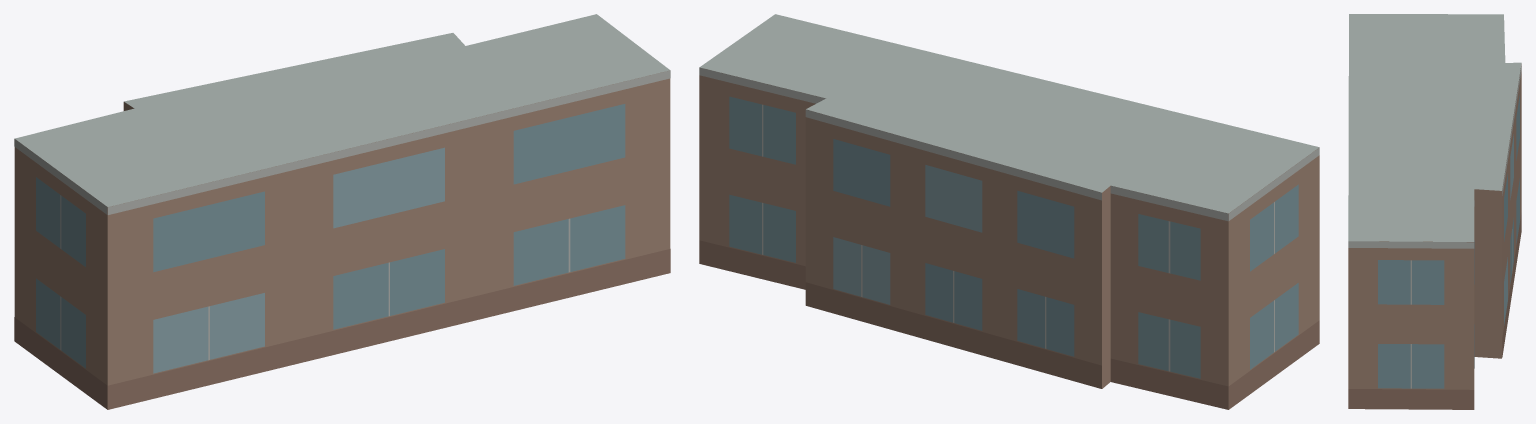
File: survey-upis-32892818.glb
3 views of the same model, side by side, from view 1: azimuth 30°, elevation 25°; view 2: azimuth 150°, elevation 25°; view 3: azimuth 270°, elevation 25° (orthographic). The views are drawn at different scales.
Visible parts, largest first — view 1: survey-upis-32892818.tmp; view 2: survey-upis-32892818.tmp; view 3: survey-upis-32892818.tmp.
Boxes of the visible parts, x1,y1,x2,y2 form: survey-upis-32892818.tmp: (14, 14, 670, 409); survey-upis-32892818.tmp: (699, 14, 1319, 409); survey-upis-32892818.tmp: (1348, 14, 1521, 409).
Size of the model in its own units: 17.79 by 6.1 by 5.72.
